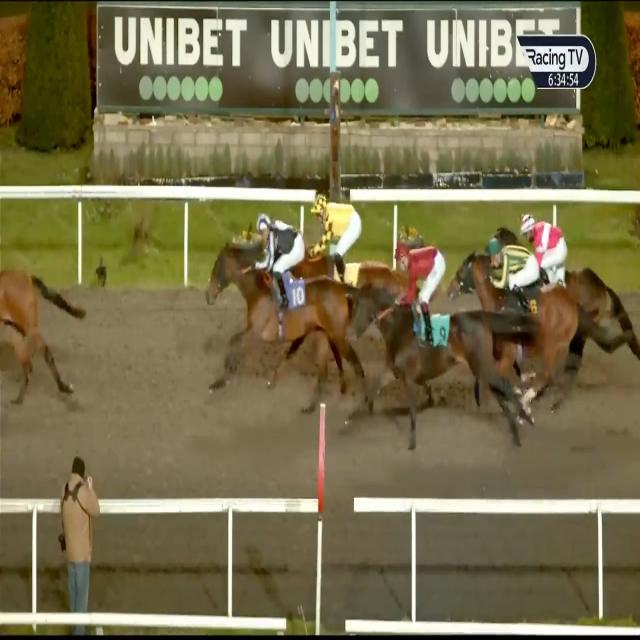horses-racing: (358, 238, 502, 437), (197, 212, 352, 392), (452, 234, 586, 377), (496, 200, 616, 316), (298, 188, 382, 300)
